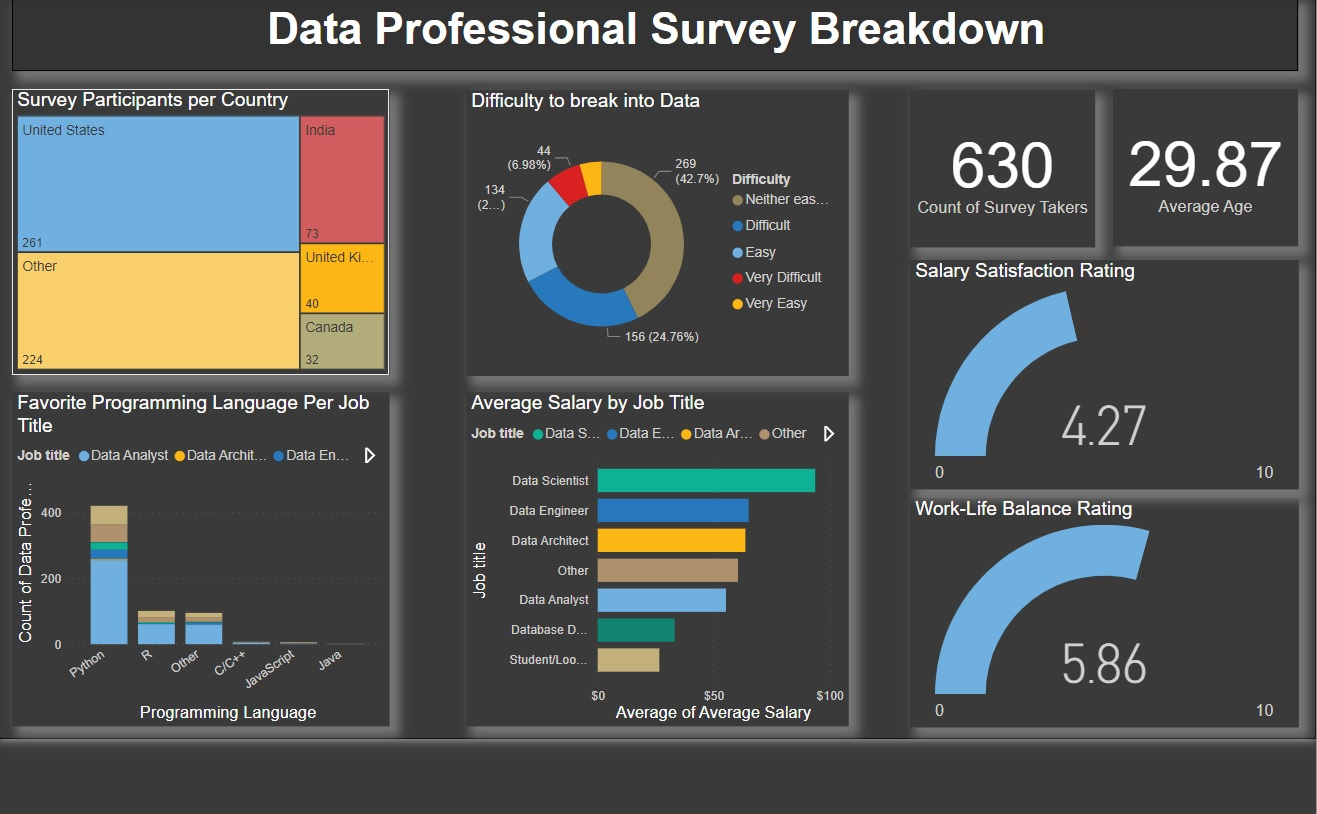

This screenshot's page, from the dashboard's own definition file:
{"tool":"powerbi","page":{"name":"Page 1","canvas":[1280,720],"ordinal":0},"visuals":[{"type":"textbox","box":[12.3,0,1250.3,71.1],"z":0},{"type":"card","fields":{"Values":["Count(Data Professional Survey.Unique ID)"]},"box":[884.9,89.6,180,153.4],"z":1000},{"type":"card","fields":{"Values":["Avg(Data Professional Survey.Q10 - Current Age)"]},"box":[1082.7,88.7,180,153.4],"z":2000},{"type":"barChart","title":"Average Salary by Job Title","fields":{"Category":["Data Professional Survey.Q1 - Which Title Best Fits your Current Role?.1"],"Y":["Avg(Data Professional Survey.Average Salary)"],"Series":["Data Professional Survey.Q1 - Which Title Best Fits your Current Role?.1"]},"box":[454,383.1,372.4,325.4],"z":3000},{"type":"columnChart","title":"Favorite Programming Language Per Job Title","fields":{"Category":["Data Professional Survey.Q5 - Favorite Programming Language.1"],"Y":["CountNonNull(Data Professional Survey.Q1 - Which Title Best Fits your Current Role?.1)"],"Series":["Data Professional Survey.Q1 - Which Title Best Fits your Current Role?.1"]},"box":[12.4,383.1,367.1,325.4],"z":4000},{"type":"treemap","title":"Survey Participants per Country","fields":{"Group":["Data Professional Survey.Q11 - Which Country do you live in?.1"],"Values":["CountNonNull(Data Professional Survey.Unique ID)"]},"box":[12.4,88.7,367.1,277.5],"z":5000},{"type":"gauge","title":"Work-Life Balance Rating","fields":{"Y":["Avg(Data Professional Survey.Q6 - How Happy are you in your Current Position with the following? (Coworkers))"],"MinValue":["Min(Data Professional Survey.Q6 - How Happy are you in your Current Position with the following? (Coworkers))"],"MaxValue":["Max(Data Professional Survey.Q6 - How Happy are you in your Current Position with the following? (Coworkers))"]},"box":[884.9,485.9,377.7,222.6],"z":6000},{"type":"gauge","title":"Salary Satisfaction Rating","fields":{"Y":["Avg(Data Professional Survey.Q6 - How Happy are you in your Current Position with the following? (Salary))"],"MinValue":["Min(Data Professional Survey.Q6 - How Happy are you in your Current Position with the following? (Salary))"],"MaxValue":["Max(Data Professional Survey.Q6 - How Happy are you in your Current Position with the following? (Salary))"]},"box":[884.9,254.5,377.7,222.6],"z":7000},{"type":"donutChart","title":"Difficulty to break into Data","fields":{"Y":["CountNonNull(Data Professional Survey.Q1 - Which Title Best Fits your Current Role?.1)"],"Category":["Data Professional Survey.Q7 - How difficult was it for you to break into Data?"]},"box":[454,89.6,372.4,278.4],"z":8000}]}

Visuals, with their boxes on the page's 1280x720 design canvas (x1, y1, x2, y2). These are canvas units, not pixel positions in the 1317x814 screenshot, which may show the page scaled, cropped or inside an application window:
textbox: detection(12, 0, 1263, 71)
card - Count(Data Professional Survey.Unique ID): detection(885, 90, 1065, 243)
card - Avg(Data Professional Survey.Q10 - Current Age): detection(1083, 89, 1263, 242)
"Average Salary by Job Title" barChart: detection(454, 383, 826, 708)
"Favorite Programming Language Per Job Title" columnChart: detection(12, 383, 380, 708)
"Survey Participants per Country" treemap: detection(12, 89, 380, 366)
"Work-Life Balance Rating" gauge: detection(885, 486, 1263, 708)
"Salary Satisfaction Rating" gauge: detection(885, 254, 1263, 477)
"Difficulty to break into Data" donutChart: detection(454, 90, 826, 368)
